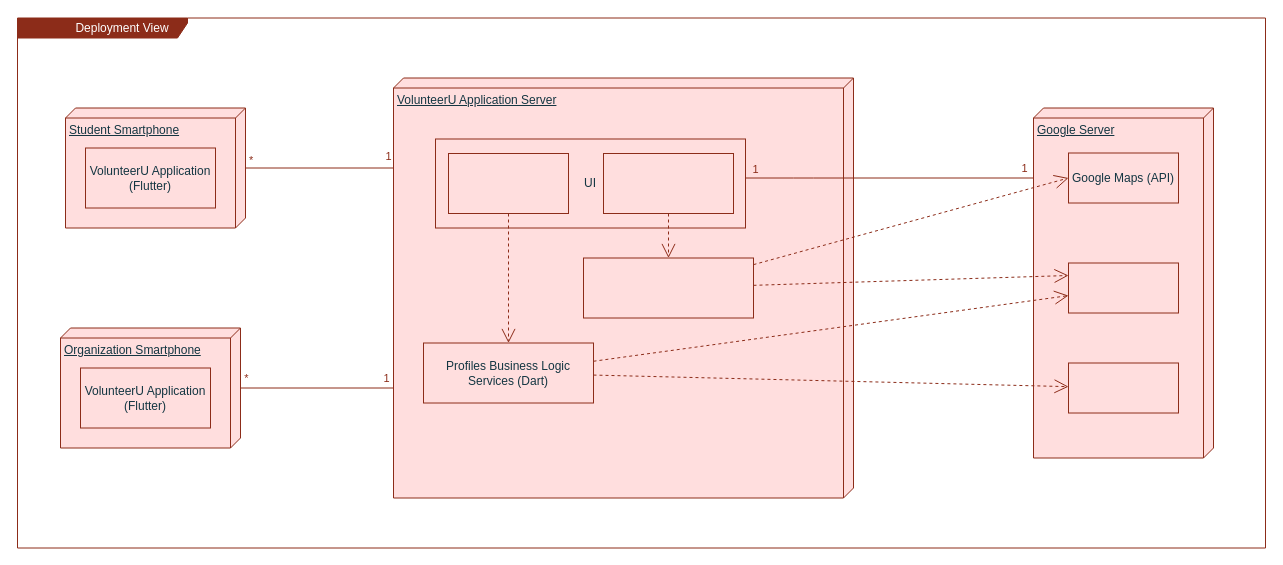
Image size: 1283x565. Some labels were removed from this diagram. The centre of each missing label's shape, as x and y in pixels:
Events (Dart): (x=668, y=183)
Events Business Logic Services (Dart): (x=668, y=287)
Firebase Authentication (API): (x=1123, y=387)
Firestore (API): (x=1123, y=287)
Profiles (Dart): (x=508, y=183)
